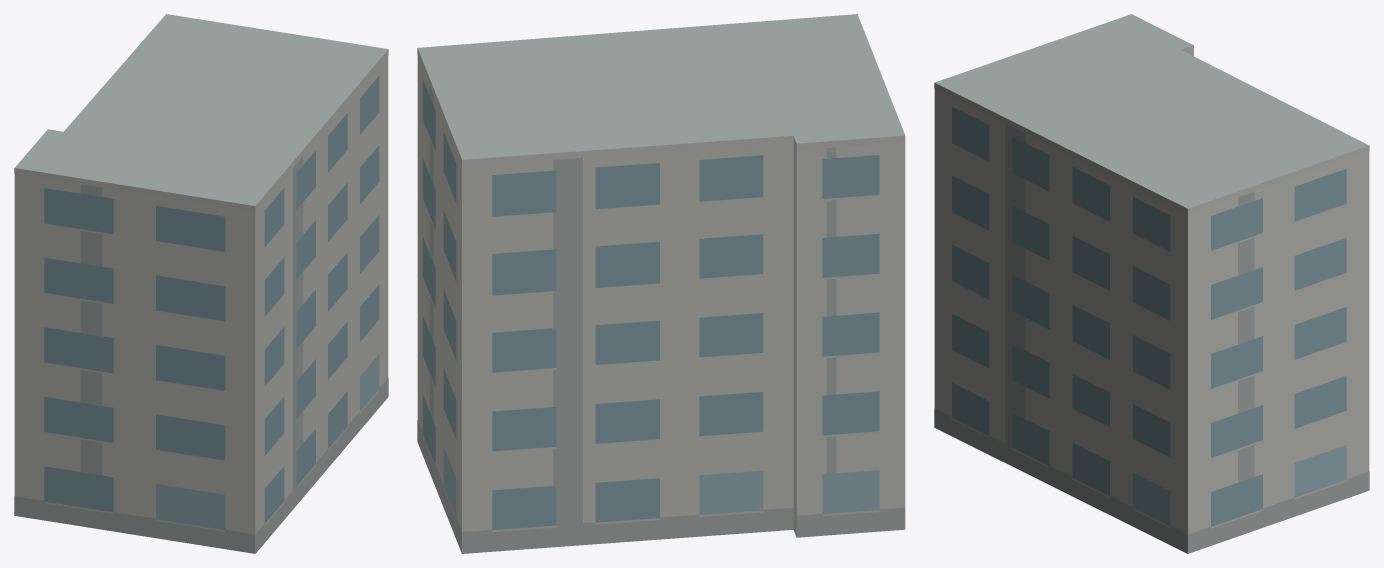
The model's file is survey-upis-32834622.glb.
The picture shows the model from 3 angles, left to right: view 1: azimuth 30°, elevation 25°; view 2: azimuth 150°, elevation 25°; view 3: azimuth 270°, elevation 25°; orthographic projection. The views are drawn at different scales.
Parts seen in each view (by area): view 1: survey-upis-32834622.tmp; view 2: survey-upis-32834622.tmp; view 3: survey-upis-32834622.tmp.
Part boxes in pixels (left/top/right/bottom): survey-upis-32834622.tmp: left=14, top=14, right=388, bottom=553; survey-upis-32834622.tmp: left=417, top=14, right=905, bottom=553; survey-upis-32834622.tmp: left=934, top=14, right=1369, bottom=553.
Bounding box in the file's own units: 17.44 × 14.4 × 16.45.
